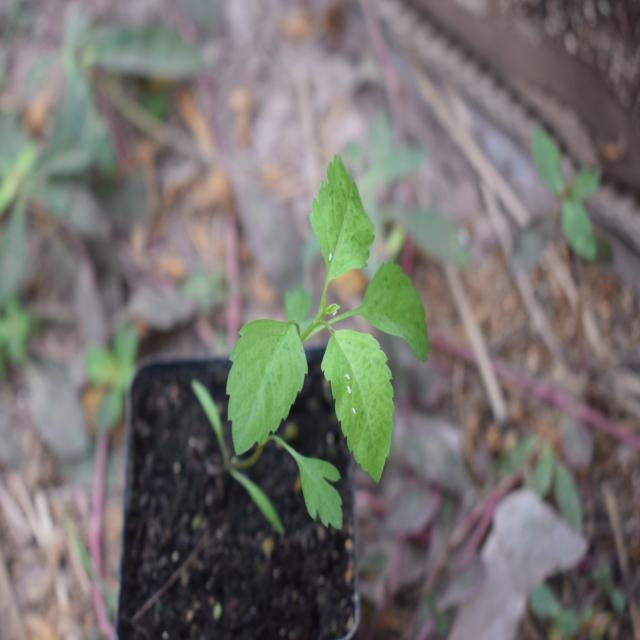Bidens pilosa: (210, 161, 450, 523)
